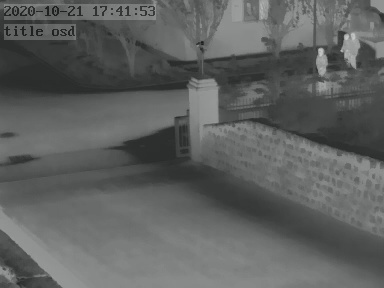person: (340, 30, 359, 72), (315, 44, 327, 78)
